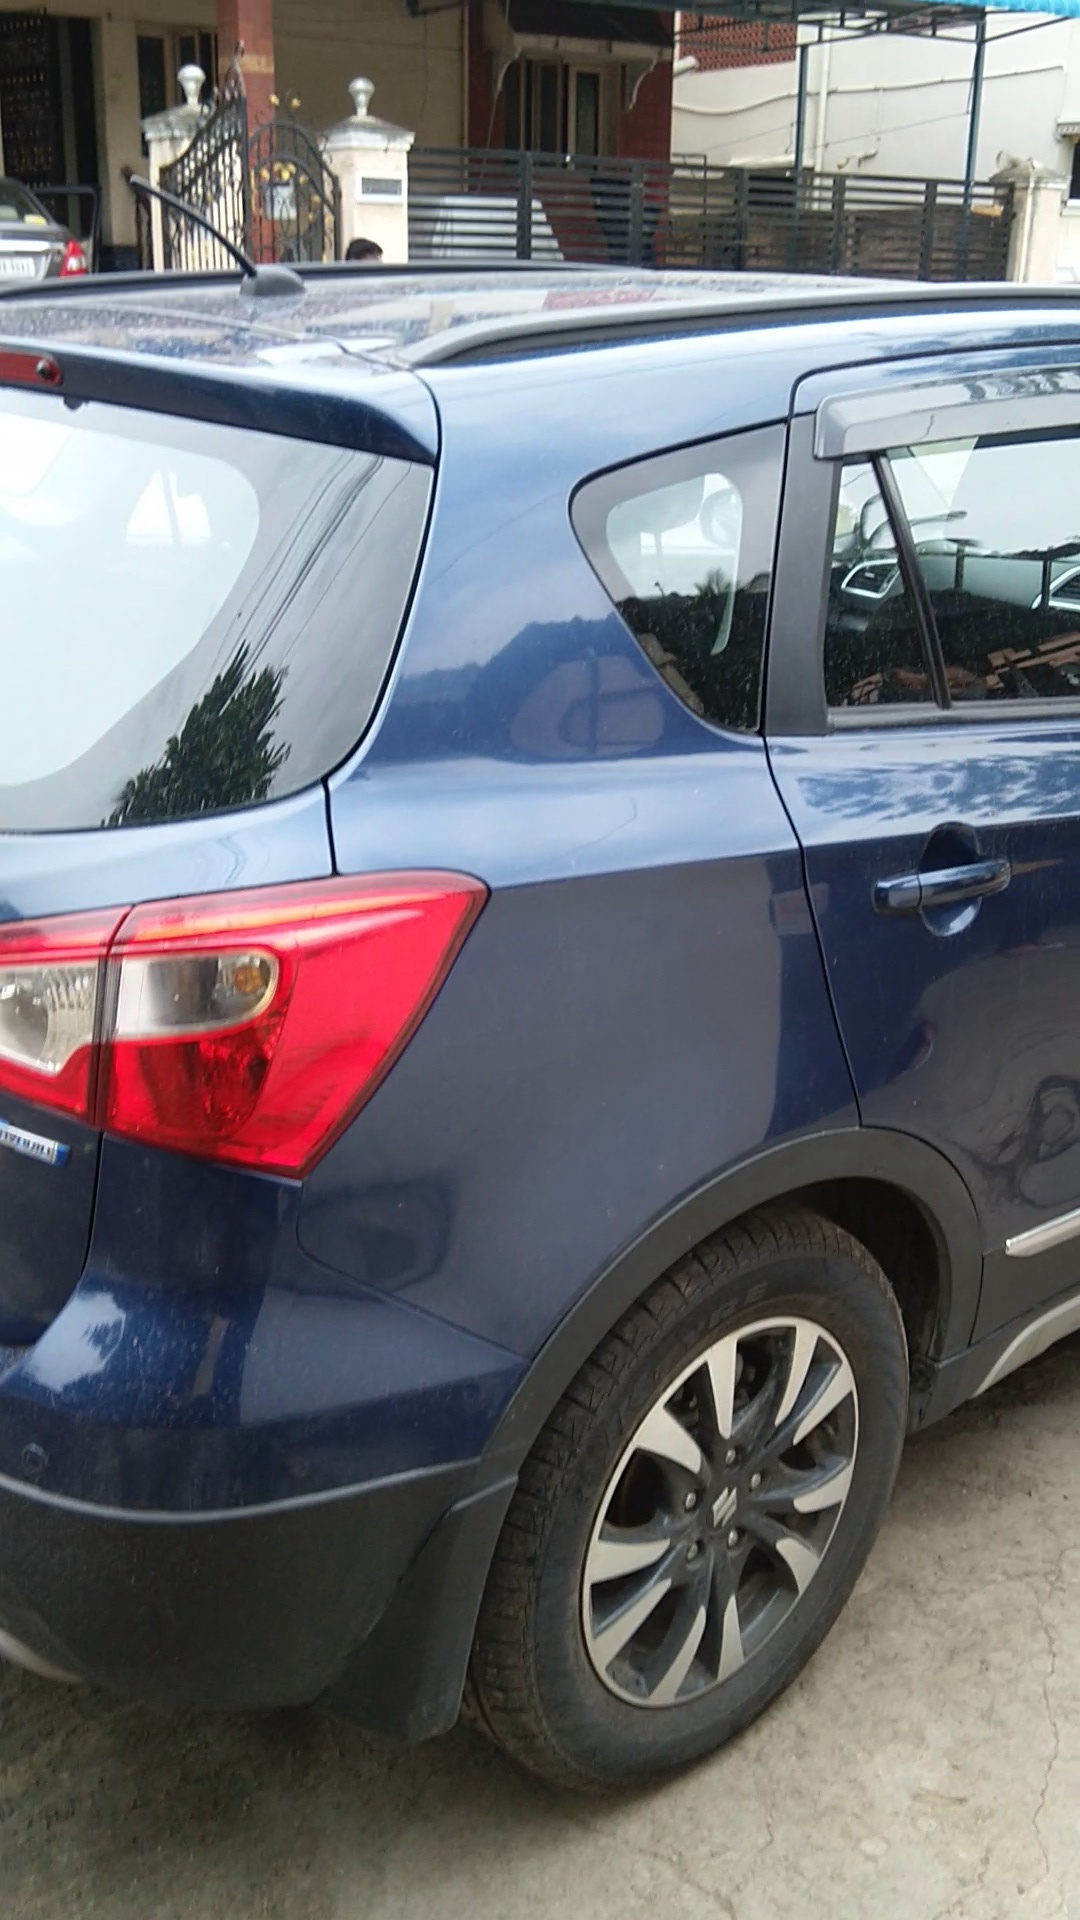alloy_wheel: (484, 1207, 916, 1817)
rear_camera: (24, 349, 71, 390)
shvs: (1, 1117, 76, 1172)
